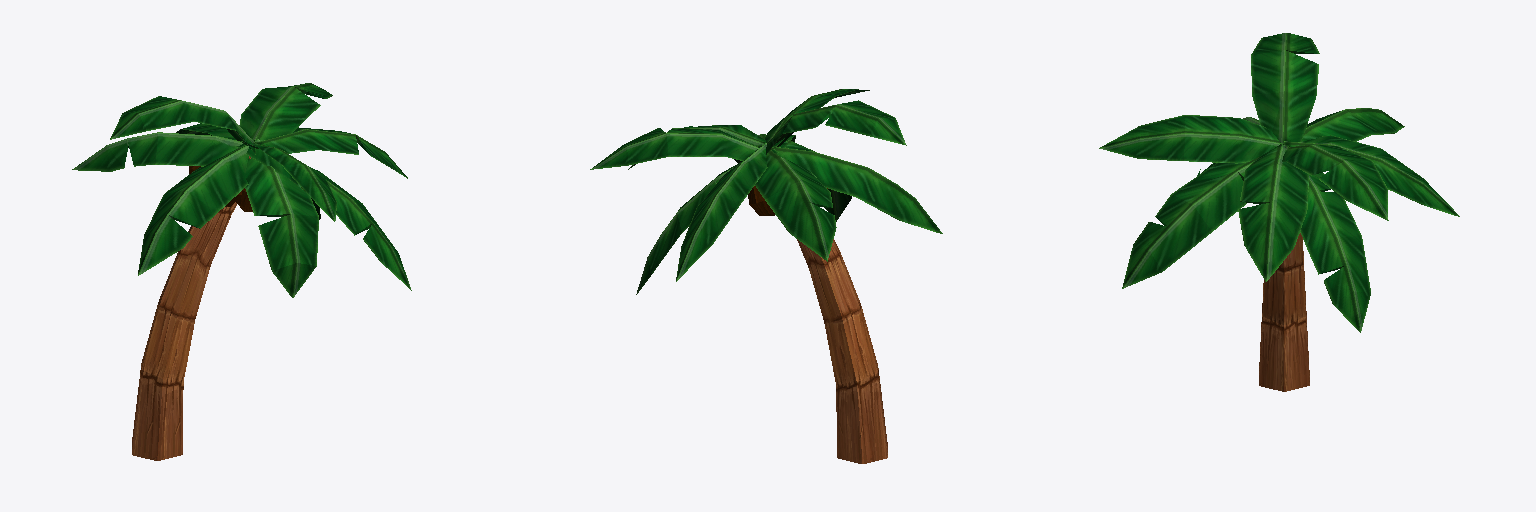
3 views of the same model, side by side, from view 1: azimuth 30°, elevation 25°; view 2: azimuth 150°, elevation 25°; view 3: azimuth 270°, elevation 25° (orthographic).
Visible parts, largest first — view 1: Cylinder02; view 2: Cylinder02; view 3: Cylinder02.
Boxes of the visible parts, x1=… form: Cylinder02: x1=72, y1=83, x2=411, y2=460; Cylinder02: x1=590, y1=89, x2=942, y2=463; Cylinder02: x1=1099, y1=33, x2=1459, y2=391.
Bounding box in the file's own units: 112 × 125 × 120.
1 materials, 1 textured.